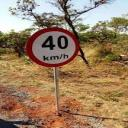speed_limit_40: (25, 27, 79, 67)
